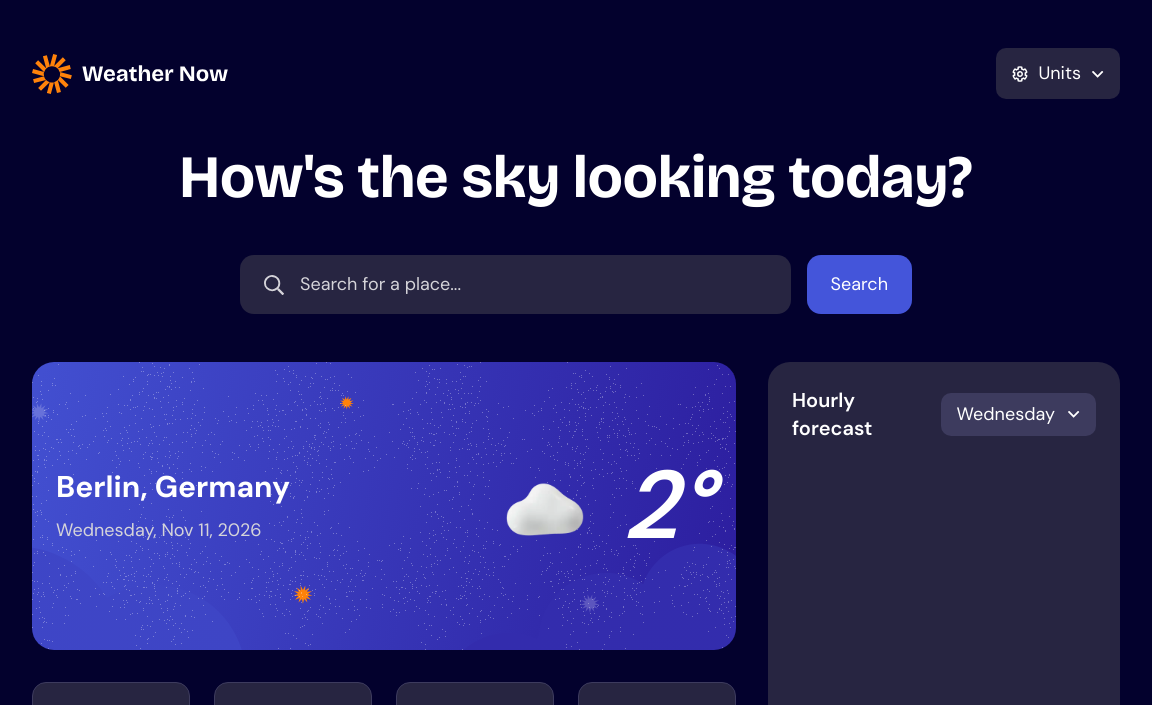
Imperial/Metric 한 번에 전환 › Switch to Imperial을 누르면 기온·체감온도·풍속·강수량이 모두 Imperial 값으로 바뀐다
Check: the text "Berlin, Germany" is shown, box [56,468,290,504]
Click the button "Units".
click(1058, 74)  # box [996,48,1120,99]
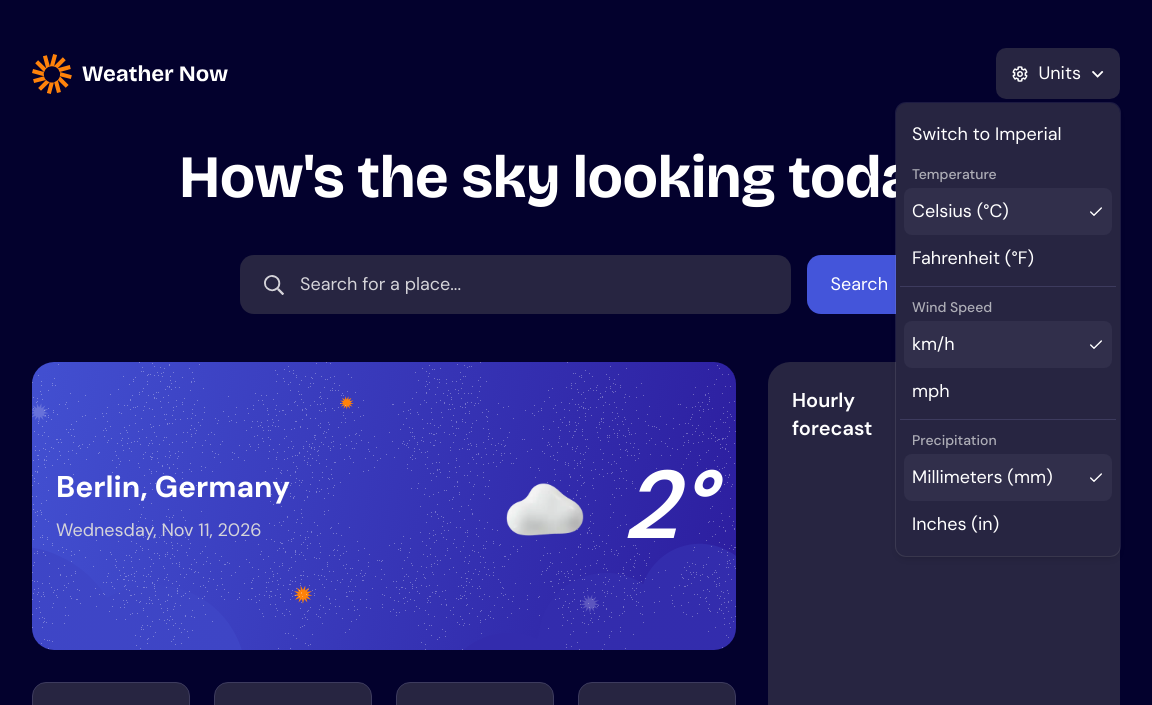
Click the menu item "Switch to Imperial".
click(987, 134)  # box [912,122,1062,146]
(page scrolled)
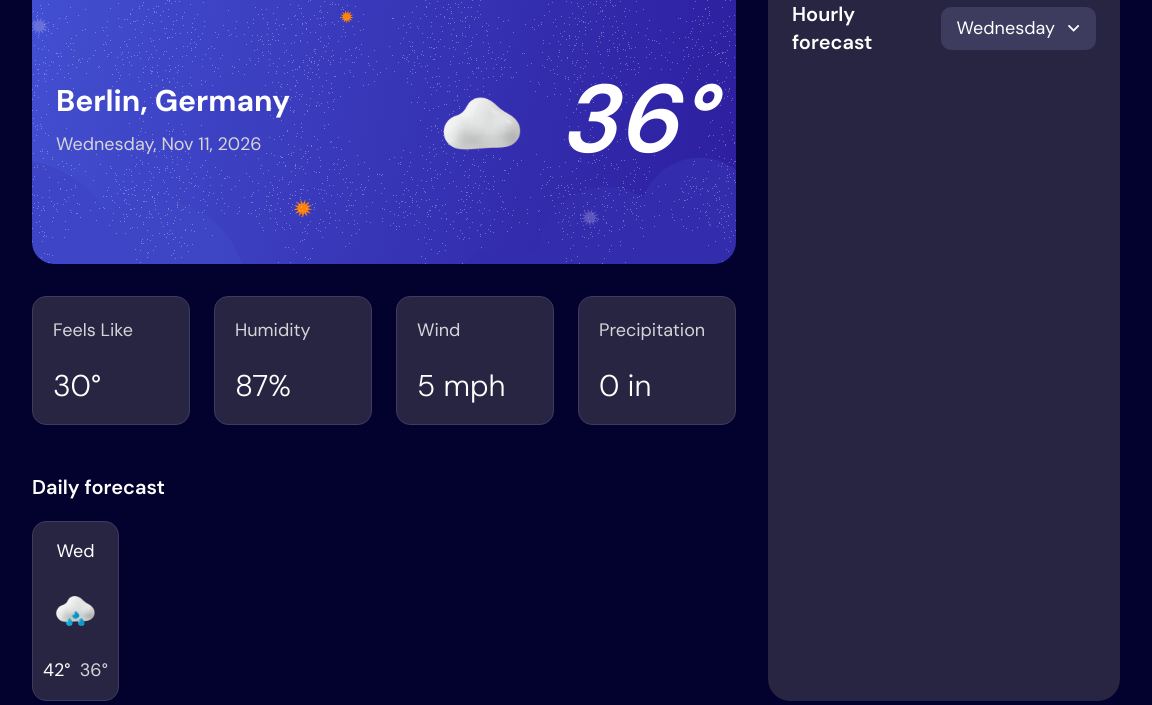
Check: the menu is gone
